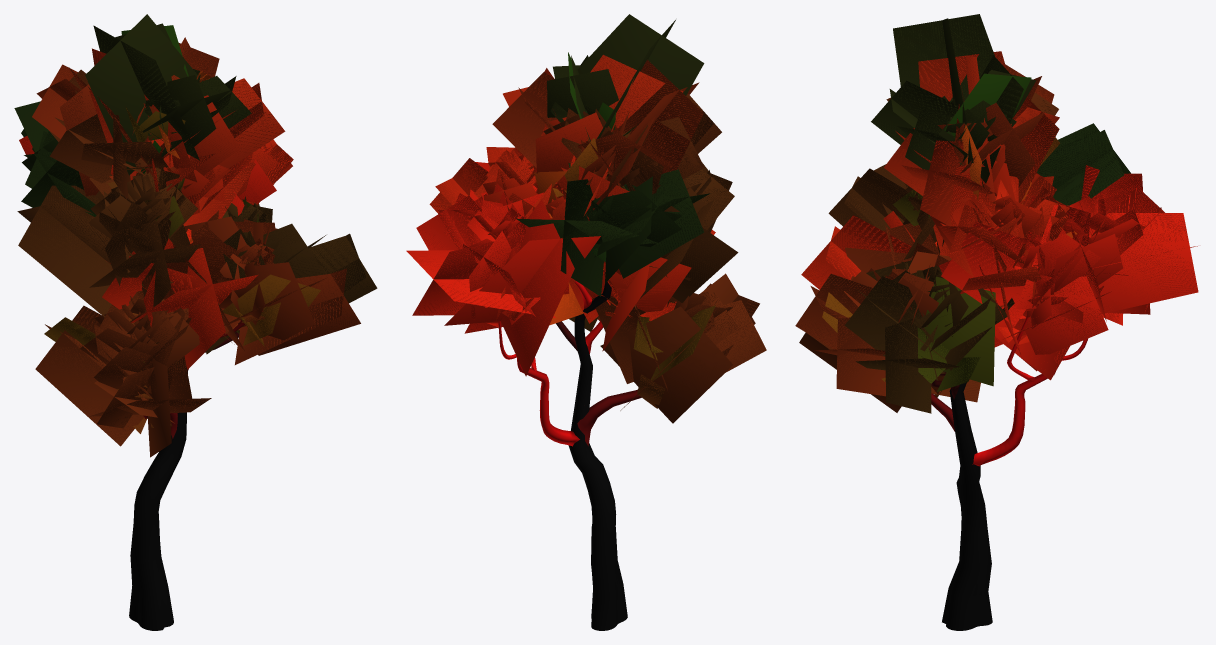
Rendered from Tree_Mesh.fbx.
3 renders of one model, left to right at view 1: azimuth 30°, elevation 25°; view 2: azimuth 150°, elevation 25°; view 3: azimuth 270°, elevation 25°, orthographic. The views are drawn at different scales.
Parts seen in each view (by area): view 1: Mesh; view 2: Mesh; view 3: Mesh.
Part boxes in pixels (x1,y1,x2,y2): Mesh: [14, 14, 377, 630]; Mesh: [406, 14, 766, 630]; Mesh: [795, 14, 1198, 630].
Size of the model in its own units: 1000 by 1848 by 1138.
